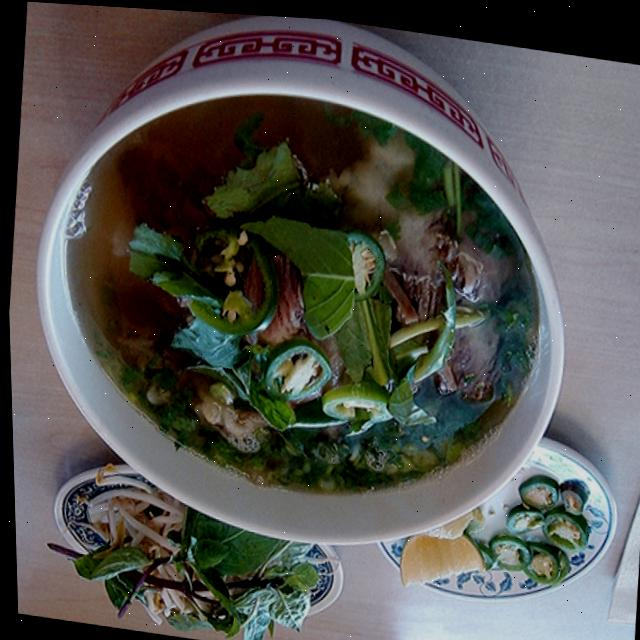面条主食: (14, 30, 596, 606)
